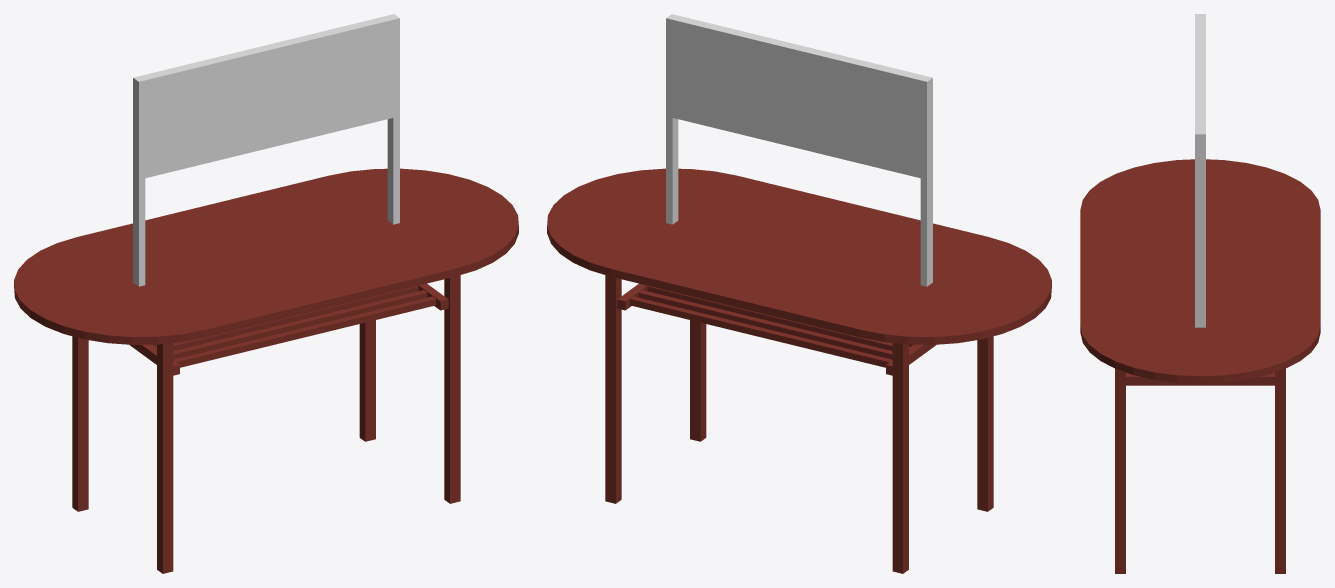
The model's file is CityHallTable2.fbx.
The picture shows the model from 3 angles, left to right: view 1: azimuth 30°, elevation 25°; view 2: azimuth 150°, elevation 25°; view 3: azimuth 270°, elevation 25°; orthographic projection. The views are drawn at different scales.
Parts seen in each view (by area): view 1: Cylinder.003, Table2Panel, Table2; view 2: Cylinder.003, Table2Panel, Table2; view 3: Cylinder.003, Table2, Table2Panel.
Part boxes in pixels (<box>): Cylinder.003: <box>14,168,518,344</box>; Table2Panel: <box>133,14,399,286</box>; Table2: <box>72,275,460,573</box>; Cylinder.003: <box>547,168,1051,344</box>; Table2Panel: <box>666,14,932,286</box>; Table2: <box>605,275,993,573</box>; Cylinder.003: <box>1080,159,1320,383</box>; Table2: <box>1115,368,1285,573</box>; Table2Panel: <box>1195,14,1205,327</box>.
Bounding box in the file's own units: 188 × 174 × 87.88.
